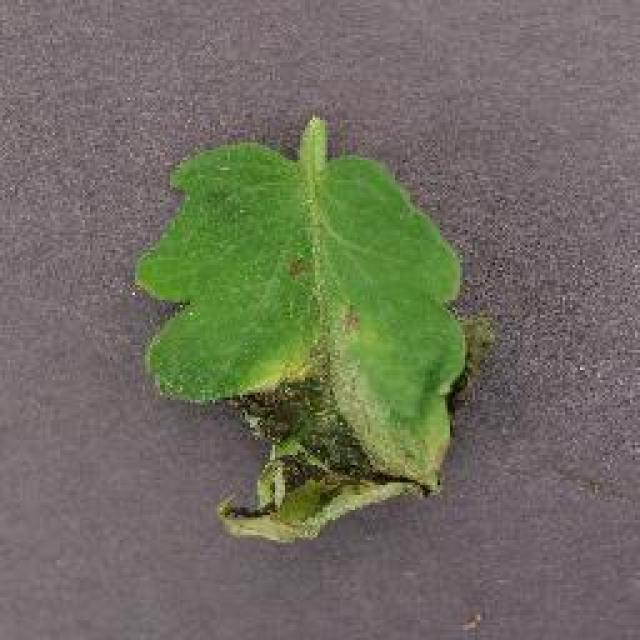Tomato Late Blight: (256, 328, 382, 604)
